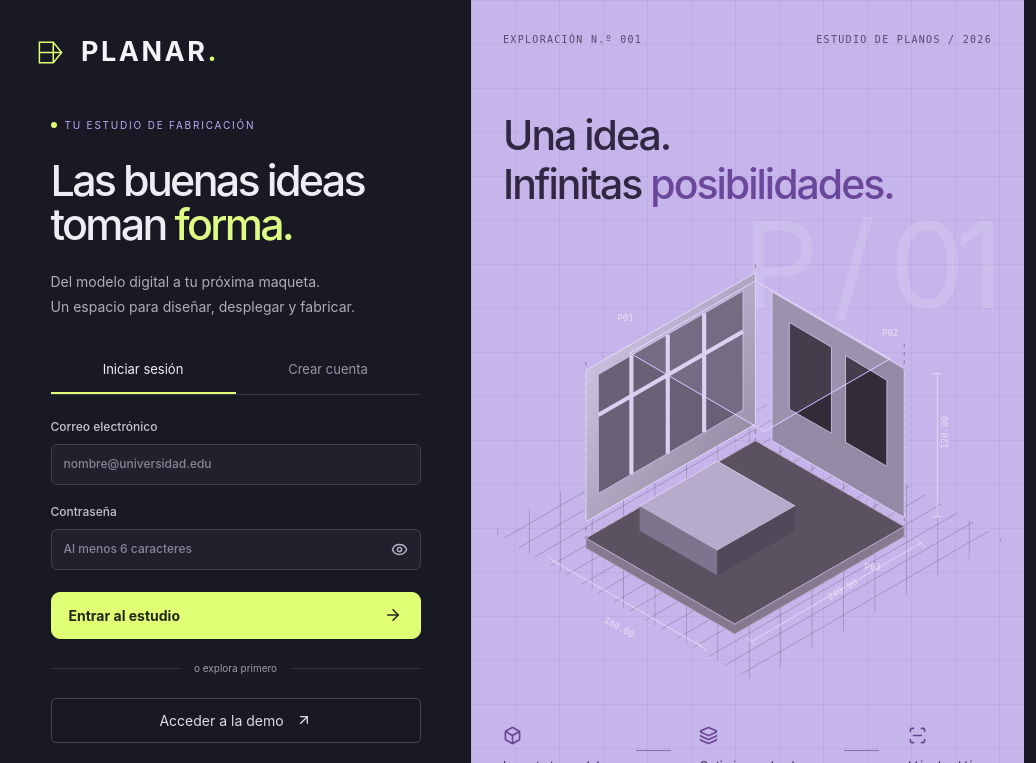
flujo local del estudio › permite acceso demo y salida sin almacenar contraseña
The width and height of the screenshot is (1036, 763).
Click the button "Acceder a la demo" at (236, 720), box x1=50 y1=698 x2=420 y2=743
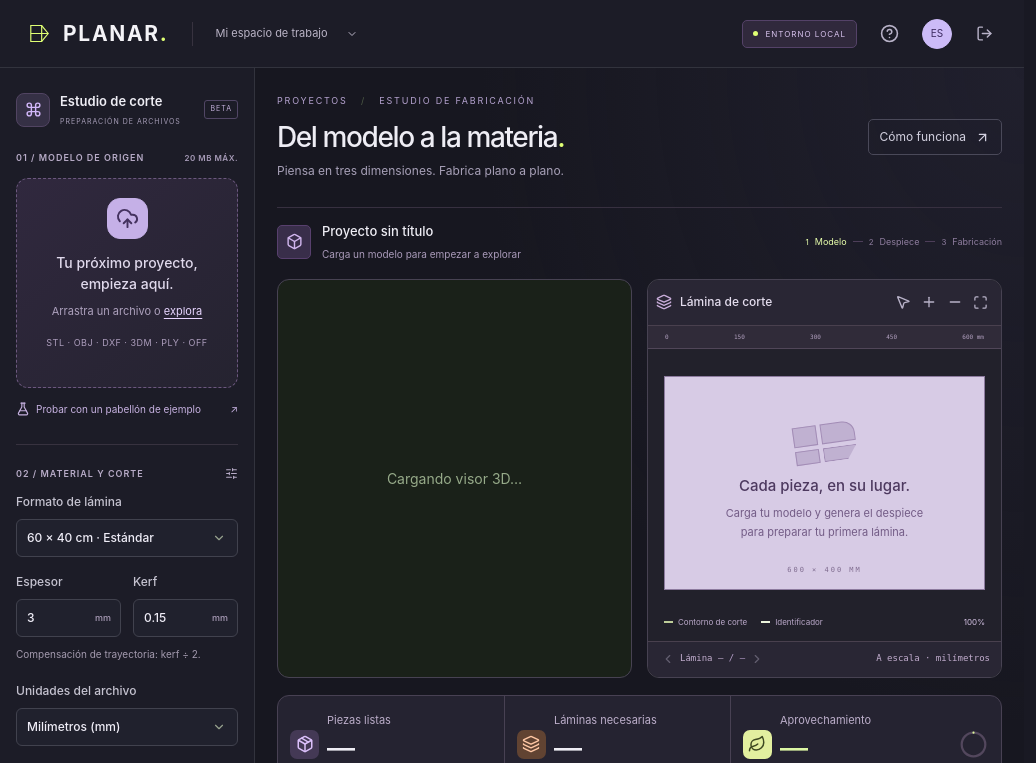
Check: the heading "Del modelo a la materia." is shown, box x1=277 y1=120 x2=564 y2=154
Click the button named "Cerrar sesión" at (984, 34), box x1=970 y1=19 x2=999 y2=48
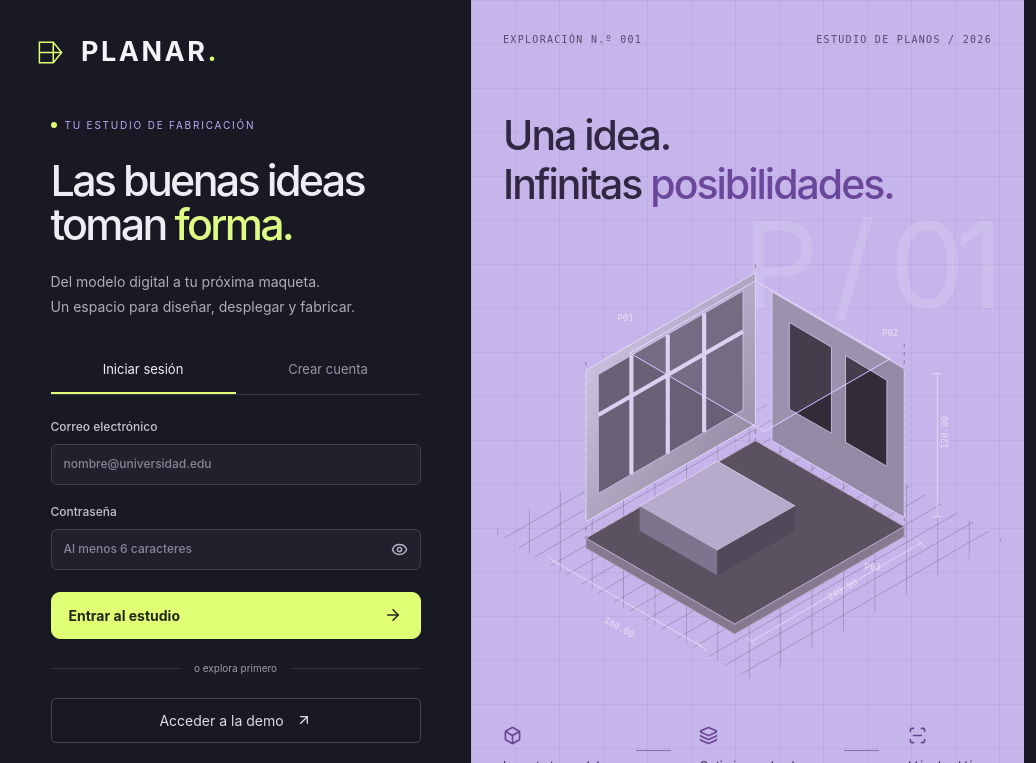
Check: the button "Iniciar sesión" is shown, box x1=50 y1=348 x2=236 y2=394
